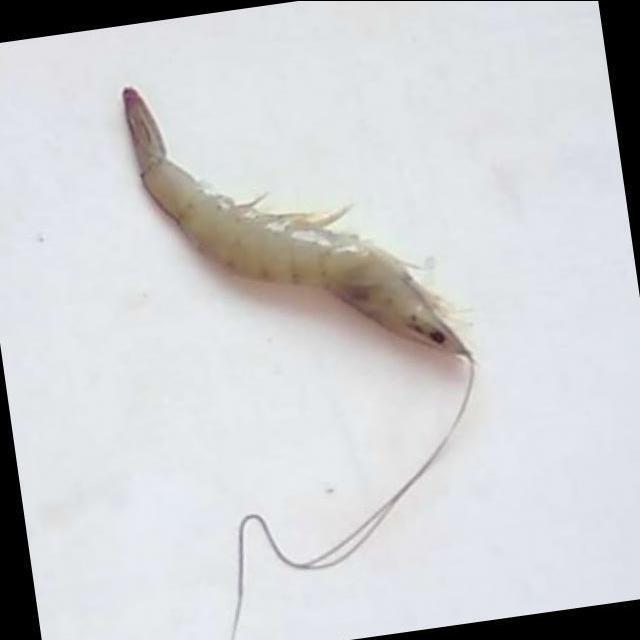shrimp: (122, 87, 471, 358)
